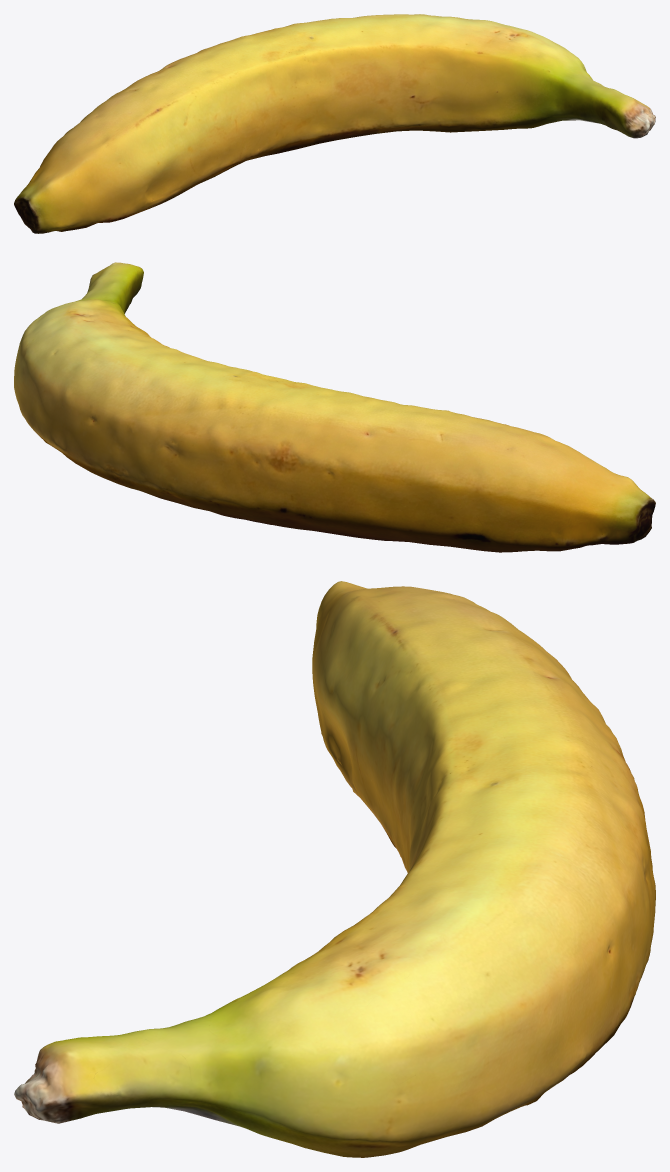
File: 3DModel.obj
3 views of the same model, one above another, from view 1: azimuth 30°, elevation 25°; view 2: azimuth 150°, elevation 25°; view 3: azimuth 270°, elevation 25° (orthographic). The views are drawn at different scales.
Parts seen in each view (by area): view 1: 3DModel; view 2: 3DModel; view 3: 3DModel.
Part boxes in pixels (<box>): 3DModel: <box>14,14,655,233</box>; 3DModel: <box>14,262,655,552</box>; 3DModel: <box>14,581,655,1157</box>.
Bounding box in the file's own units: 0.1973 × 0.037 × 0.1009.
1 material, 1 textured.
